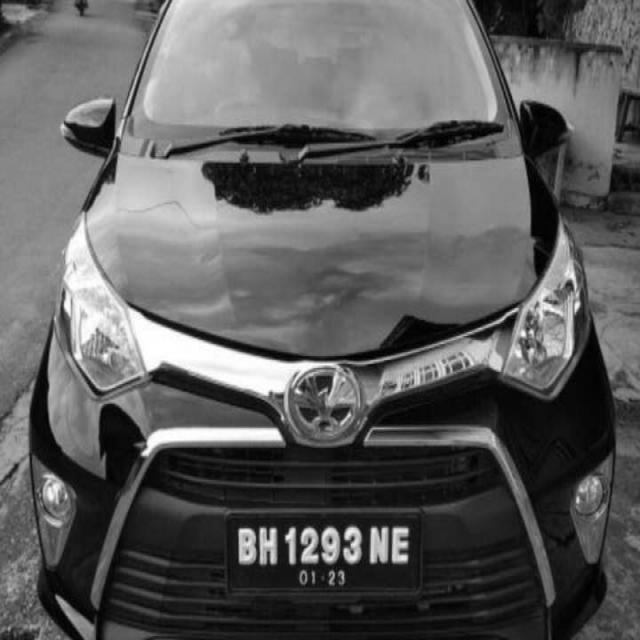1: (285, 523, 297, 570)
2: (298, 526, 318, 566)
3: (340, 525, 362, 565)
9: (318, 523, 340, 567)
B: (238, 528, 258, 566)
E: (392, 525, 410, 570)
H: (258, 528, 278, 567)
N: (370, 526, 392, 570)
